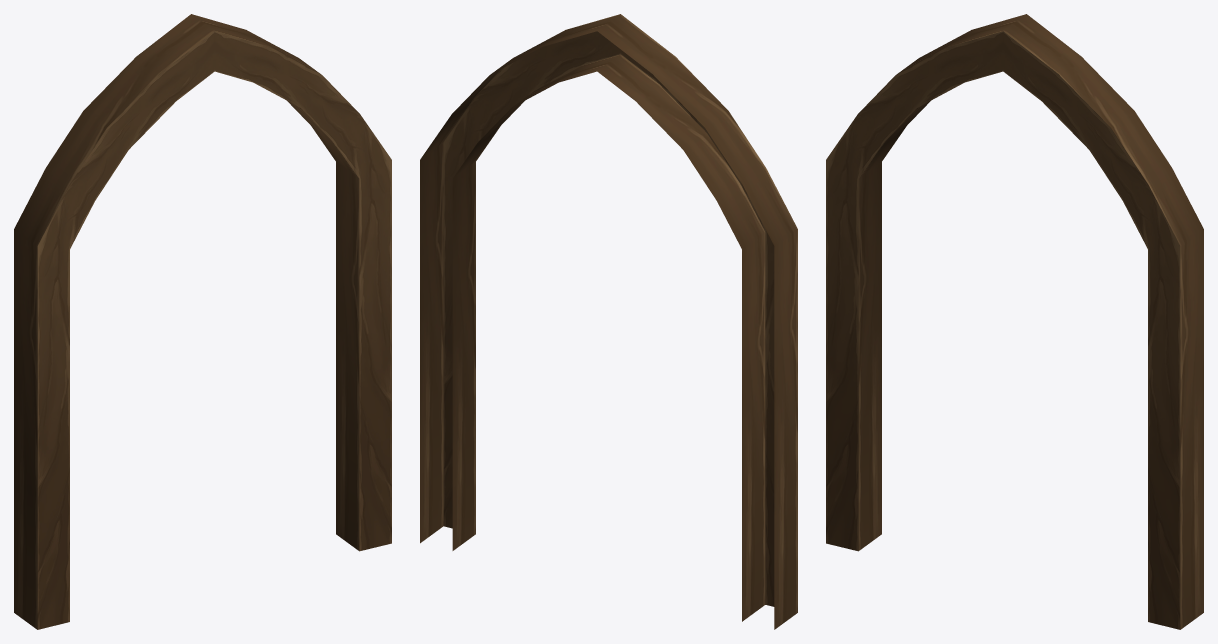
The model's file is Door_aperture_2.FBX.
3 renders of one model, left to right at view 1: azimuth 30°, elevation 25°; view 2: azimuth 150°, elevation 25°; view 3: azimuth 330°, elevation 25°, orthographic.
Visible parts, largest first — view 1: Door_aperture_2; view 2: Door_aperture_2; view 3: Door_aperture_2.
Boxes of the visible parts, bbox=[...] form: Door_aperture_2: bbox=[14, 14, 391, 629]; Door_aperture_2: bbox=[420, 14, 797, 629]; Door_aperture_2: bbox=[826, 14, 1203, 629].
Size of the model in its own units: 1705 by 2555 by 196.
